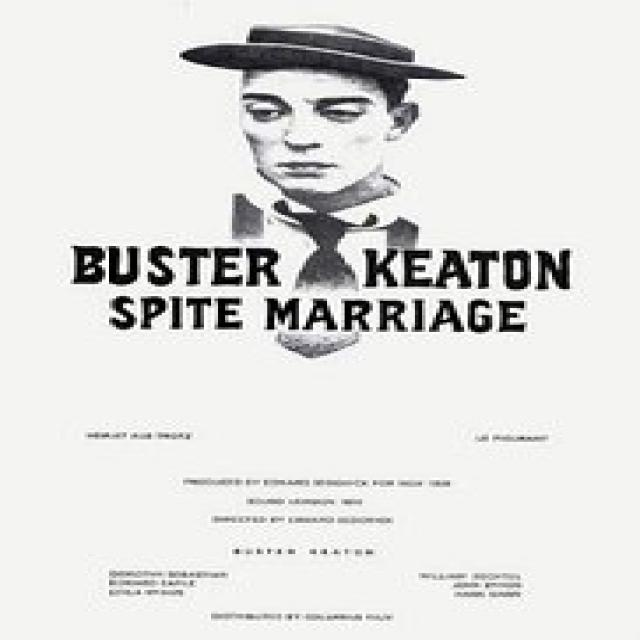movie-judul: (64, 230, 576, 350)
picture: (177, 15, 470, 384)
